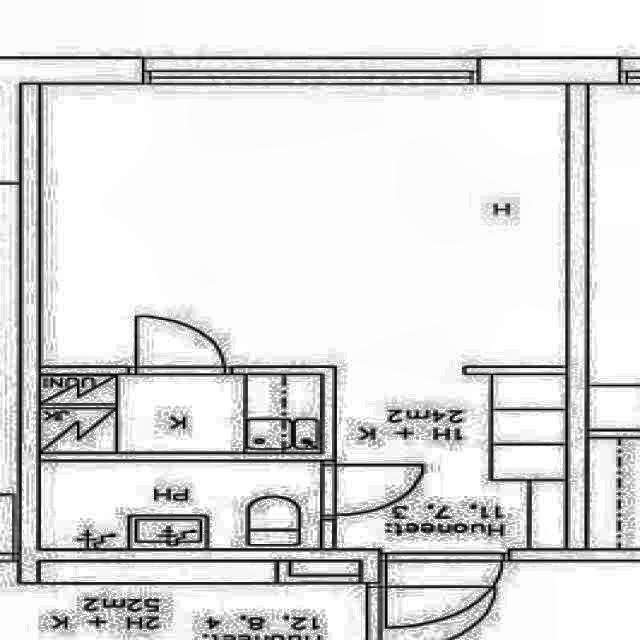room: (41, 462, 319, 549), (41, 374, 321, 454)
